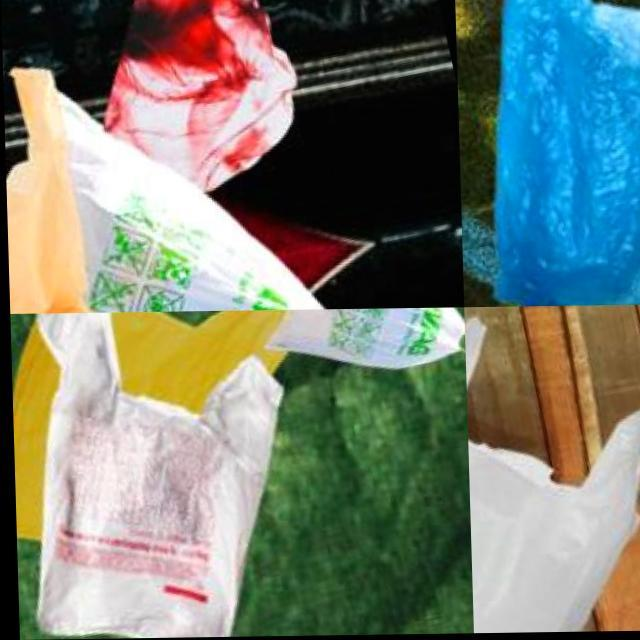Single-layer Plastic: (39, 314, 282, 636), (59, 94, 320, 311), (495, 0, 640, 305), (469, 411, 640, 632), (105, 0, 294, 190), (6, 68, 89, 314), (270, 309, 465, 368)
